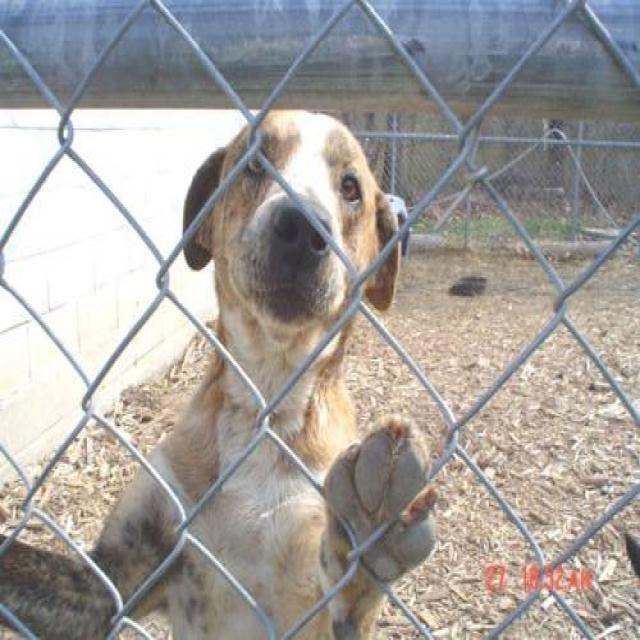sad: (176, 102, 414, 443)
